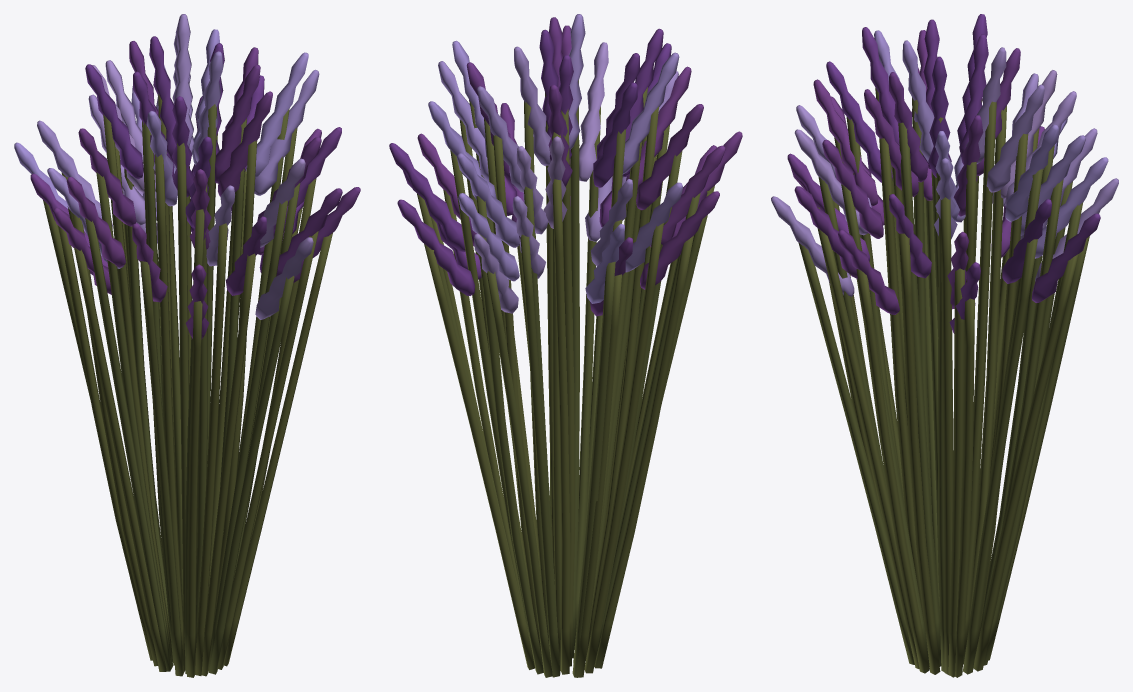
The model's file is bucket_lavender.glb.
3 views of the same model, side by side, from view 1: azimuth 30°, elevation 25°; view 2: azimuth 150°, elevation 25°; view 3: azimuth 270°, elevation 25° (orthographic).
Visible parts, largest first — view 1: Sammel Putz, Sammel Pflanze; view 2: Sammel Putz, Sammel Pflanze; view 3: Sammel Putz, Sammel Pflanze.
Boxes of the visible parts, <box> form: Sammel Putz: <box>43,93,332,677</box>; Sammel Pflanze: <box>14,14,360,339</box>; Sammel Putz: <box>417,80,714,677</box>; Sammel Pflanze: <box>389,14,742,316</box>; Sammel Putz: <box>798,88,1089,677</box>; Sammel Pflanze: <box>771,14,1118,333</box>.
Bounding box in the file's own units: 0.2803 × 0.5722 × 0.2893.
